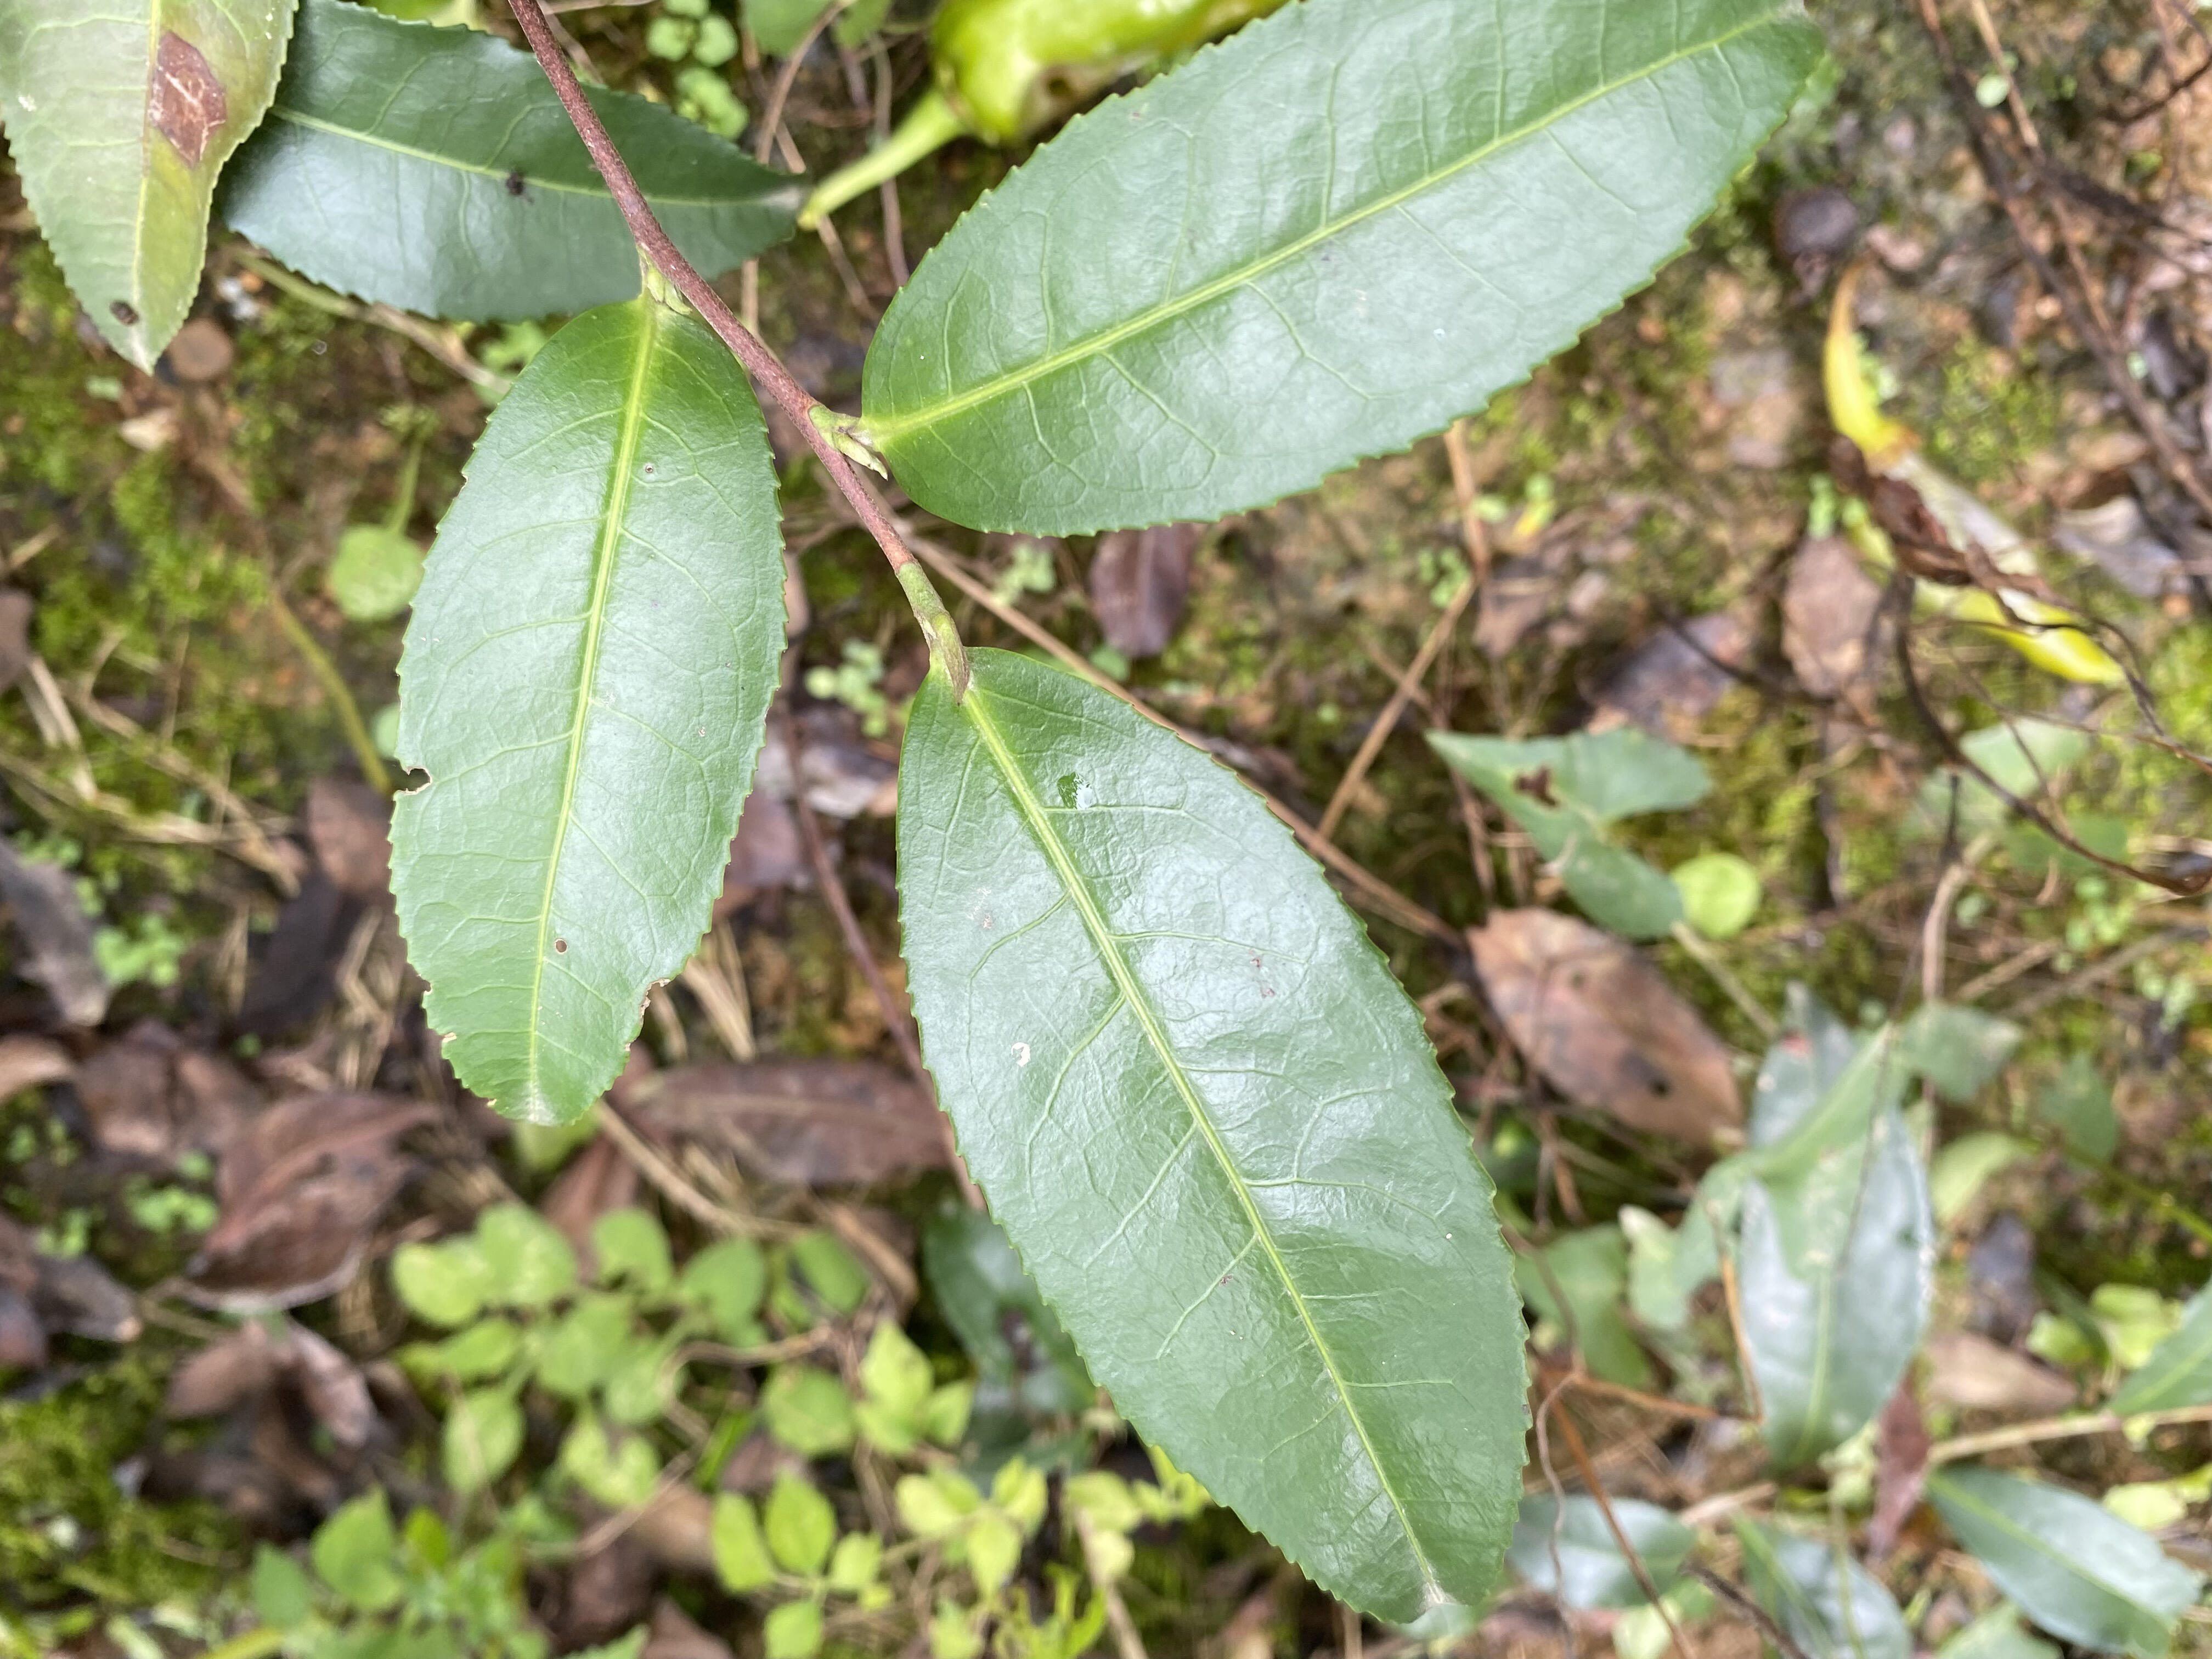chihuo_high: (388, 298, 791, 1133)
tanju_high: (3, 5, 301, 383)
tanju_low: (894, 643, 1540, 1626), (859, 5, 1813, 547), (233, 9, 819, 317)
